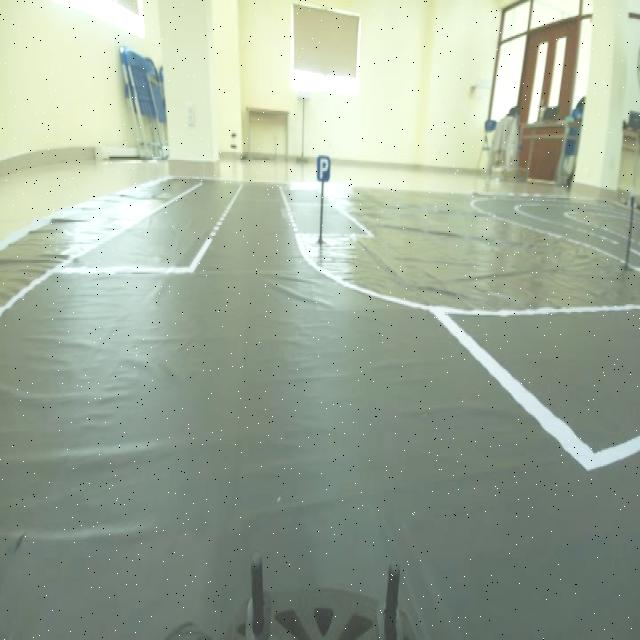parking: (312, 149, 334, 192)
